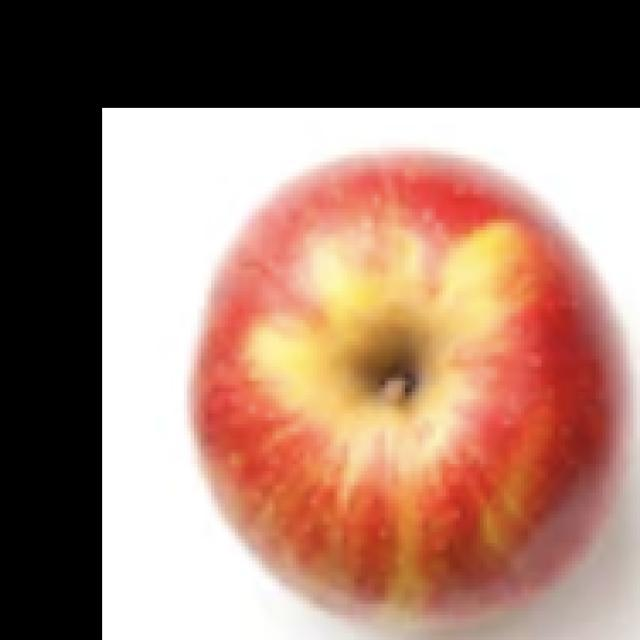Fresh Apple: (186, 142, 640, 640)
